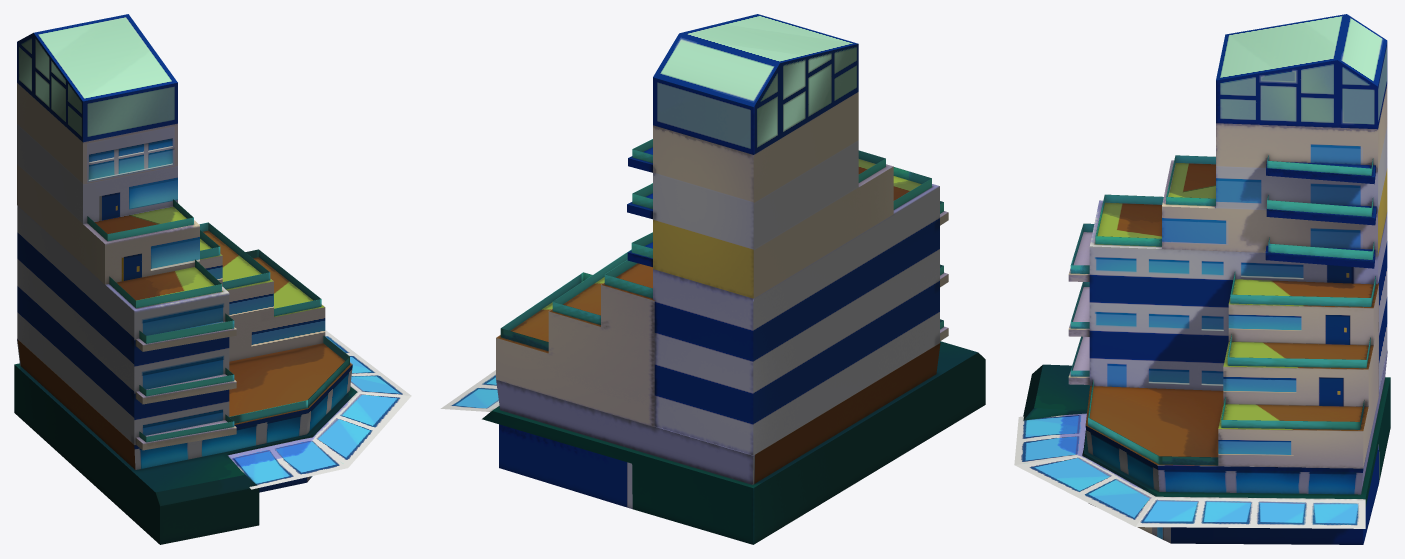
File: condo.fbx
3 views of the same model, side by side, from view 1: azimuth 30°, elevation 25°; view 2: azimuth 150°, elevation 25°; view 3: azimuth 270°, elevation 25° (orthographic). The views are drawn at different scales.
Visible parts, largest first — view 1: pCube46; view 2: pCube46; view 3: pCube46.
Part boxes in pixels (<box>): pCube46: <box>14,14,411,544</box>; pCube46: <box>440,14,985,544</box>; pCube46: <box>1014,14,1390,544</box>.
Bounding box in the file's own units: 85.1 × 106 × 87.17.
